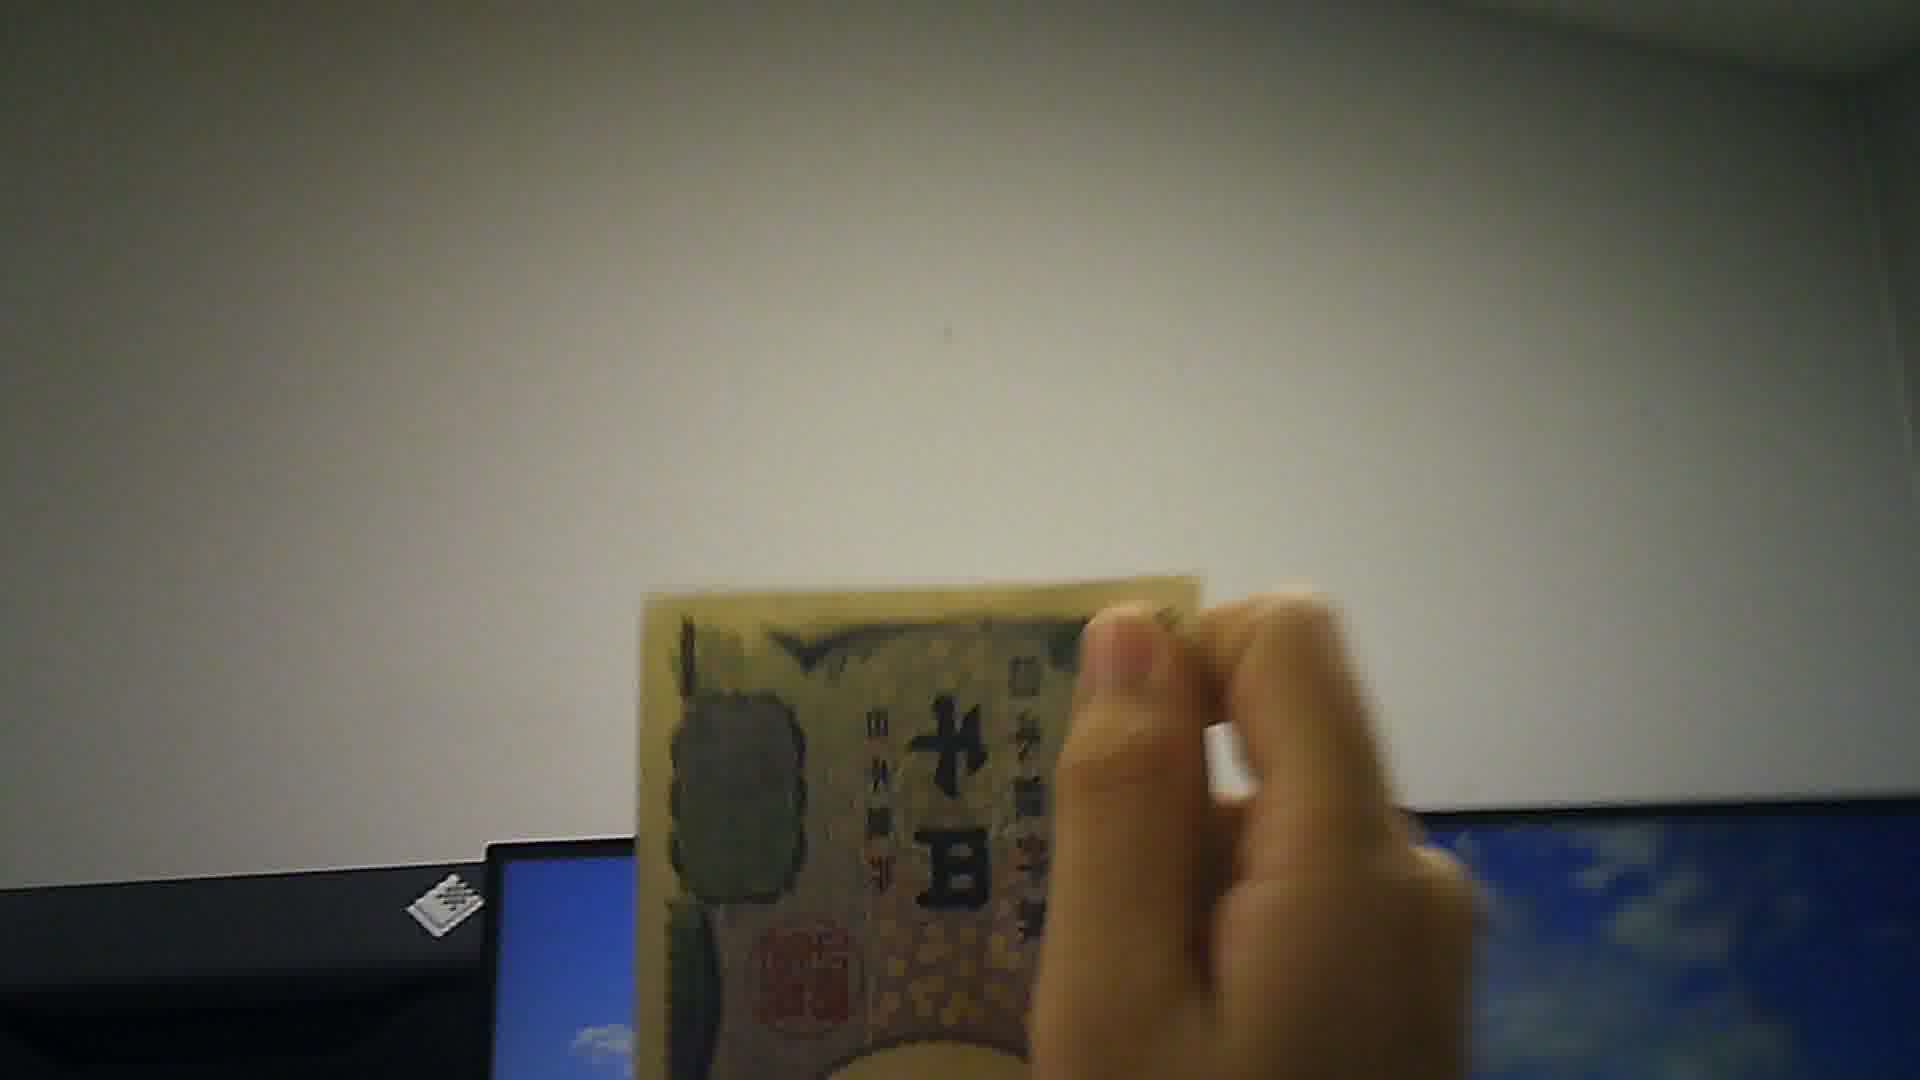1,000 Yen: (654, 579, 1191, 1079)
